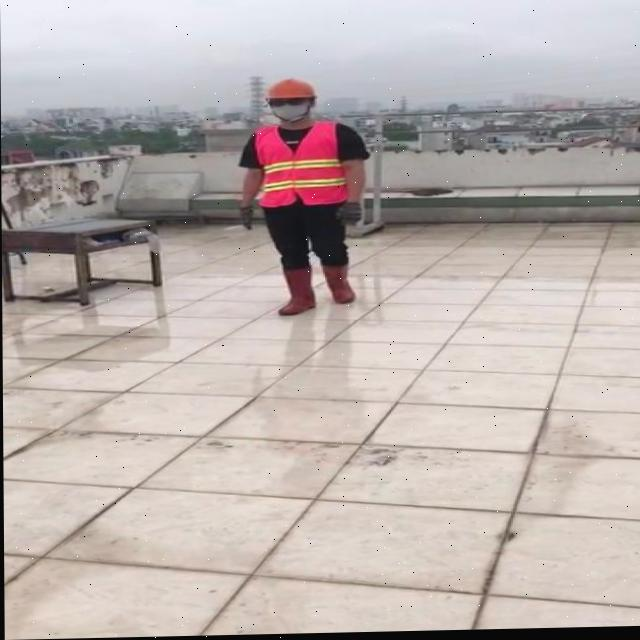Gloves: (337, 202, 363, 227), (240, 206, 254, 231)
Helmet: (265, 79, 317, 123)
Safety-Boot: (279, 266, 316, 316), (323, 262, 356, 305)
Safety-Vest: (252, 121, 349, 210)
